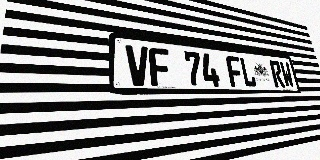4: (200, 53, 220, 87)
7: (183, 51, 204, 87)
F: (148, 47, 172, 86), (225, 55, 244, 87)
L: (239, 57, 257, 87)
R: (269, 60, 285, 87)
V: (125, 45, 150, 86)
W: (279, 61, 295, 88)
